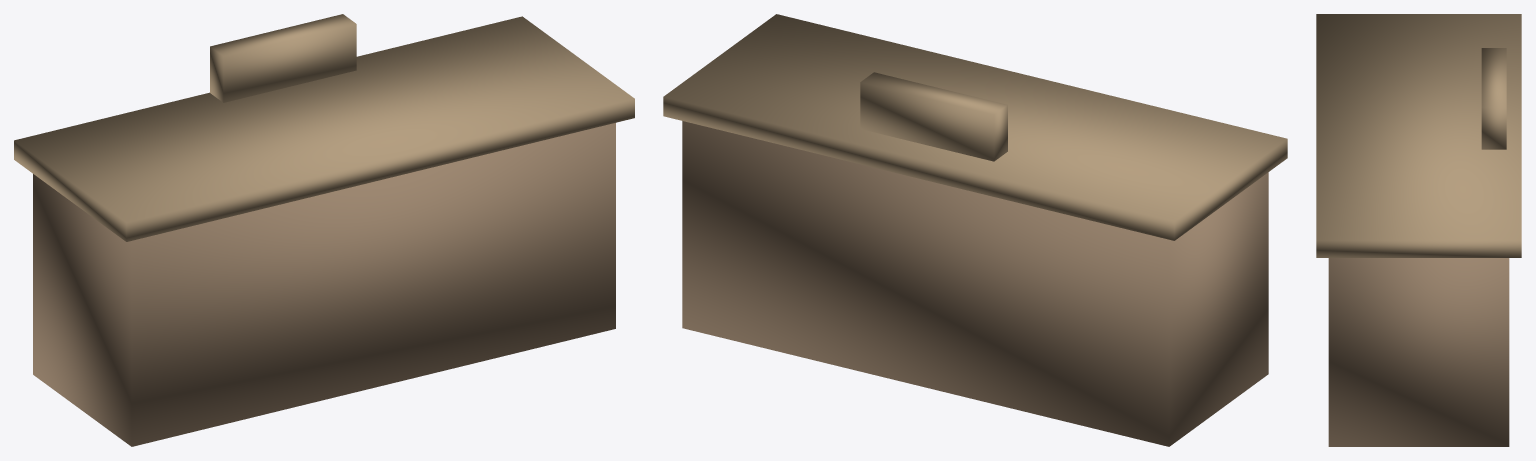
Rendered from judge_bench__squat.glb.
3 views of the same model, side by side, from view 1: azimuth 30°, elevation 25°; view 2: azimuth 150°, elevation 25°; view 3: azimuth 270°, elevation 25° (orthographic). The views are drawn at different scales.
Parts seen in each view (by area): view 1: world; view 2: world; view 3: world.
Part boxes in pixels (<box>): world: <box>14,14,634,446</box>; world: <box>663,14,1287,446</box>; world: <box>1316,14,1521,446</box>.
Size of the model in its own units: 2.31 by 1.24 by 0.8856.
